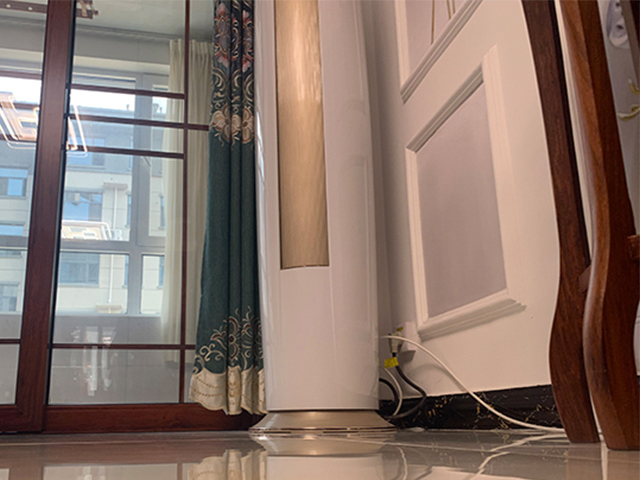curtain: (189, 1, 269, 415)
wire: (378, 332, 565, 433)
